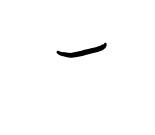minus: (56, 42, 108, 58)
